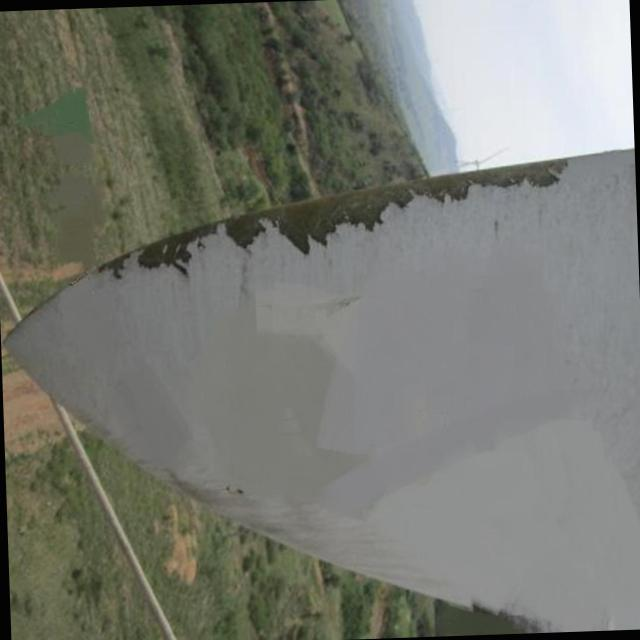corrosion: (333, 160, 564, 233)
surface_peeling: (95, 202, 328, 275)
